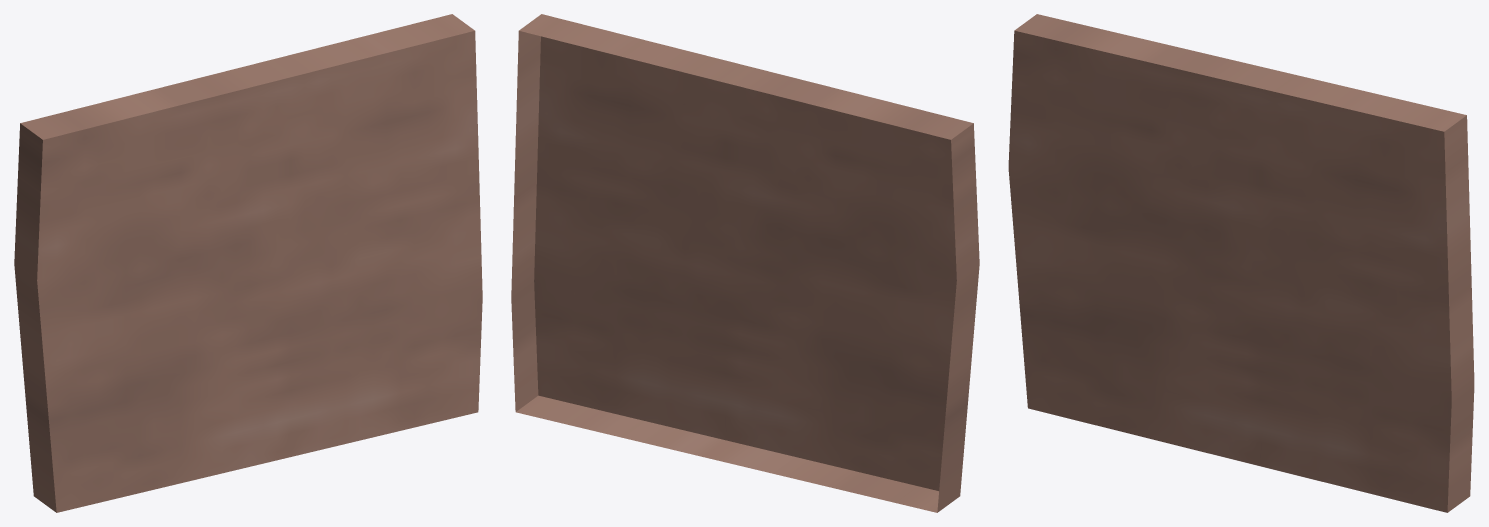
File: button_3.fbx
3 renders of one model, left to right at view 1: azimuth 30°, elevation 25°; view 2: azimuth 150°, elevation 25°; view 3: azimuth 330°, elevation 25°, orthographic.
Parts seen in each view (by area): view 1: button_3; view 2: button_3; view 3: button_3.
Part boxes in pixels (<box>): button_3: <box>14,14,482,512</box>; button_3: <box>511,14,979,512</box>; button_3: <box>1008,14,1474,512</box>.
Bounding box in the file's own units: 25.45 × 20.87 × 2.26.
